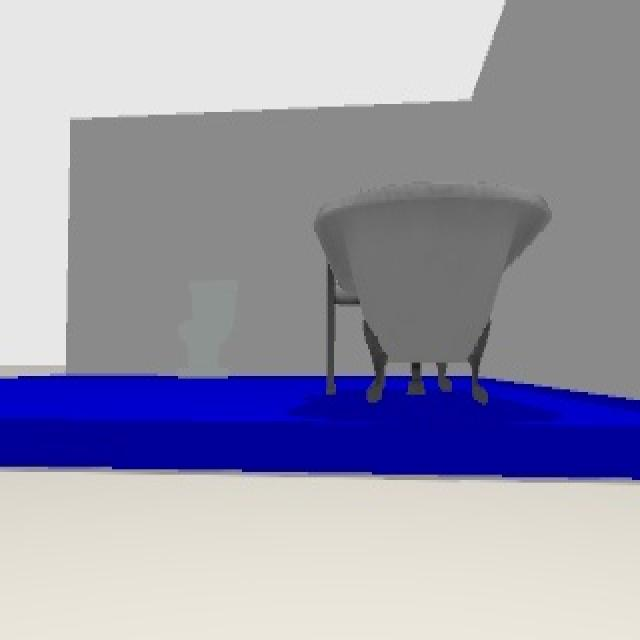bathtub: (312, 187, 554, 405)
